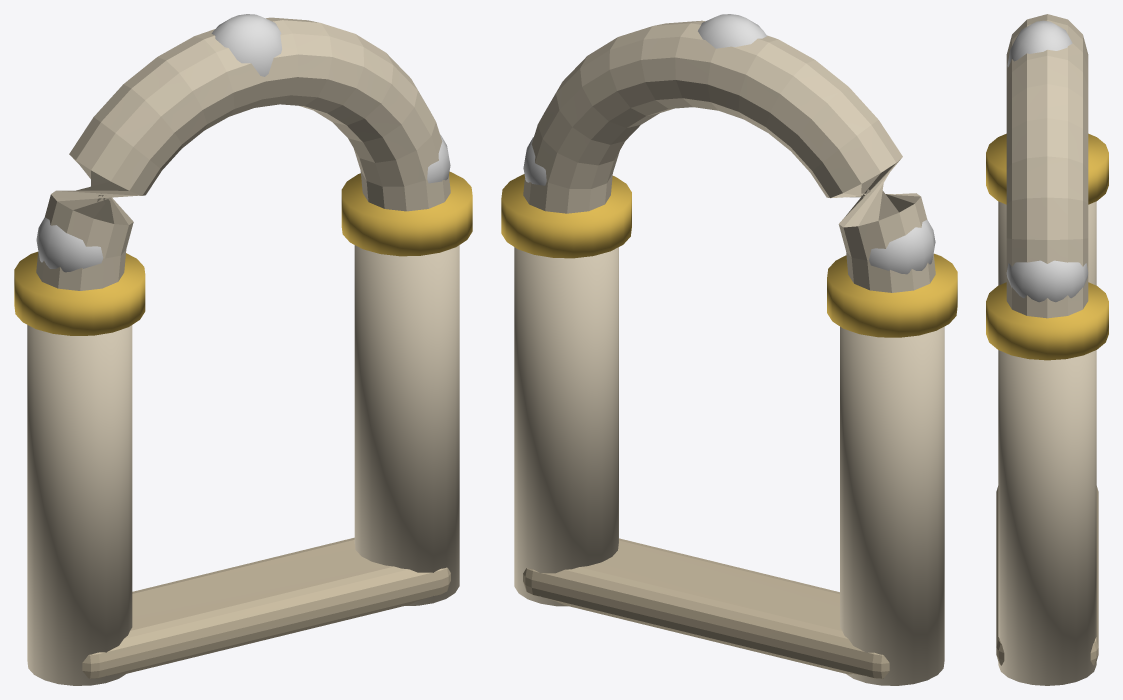
File: gym_door_frame_lite.glb
The picture shows the model from 3 angles, left to right: view 1: azimuth 30°, elevation 25°; view 2: azimuth 150°, elevation 25°; view 3: azimuth 270°, elevation 25°; orthographic projection. The views are drawn at different scales.
Parts seen in each view (by area): view 1: Cube; view 2: Cube; view 3: Cube.
Part boxes in pixels (x1=…): Cube: x1=14, y1=14, x2=472, y2=685; Cube: x1=501, y1=14, x2=957, y2=685; Cube: x1=986, y1=14, x2=1108, y2=685.
Size of the model in its own units: 2.32 by 3.06 by 0.6.
